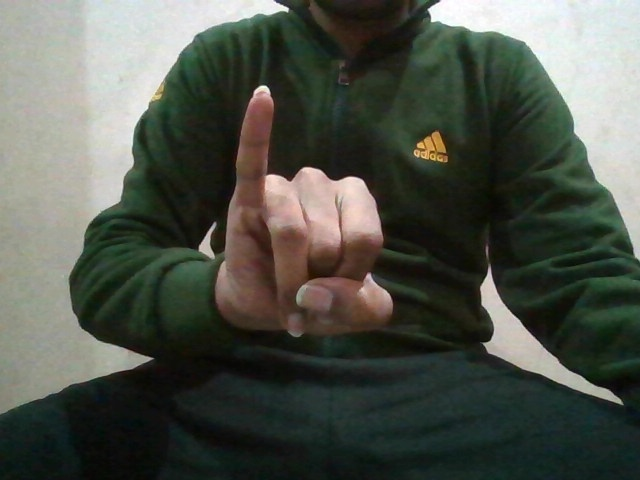I: (233, 79, 393, 337)
